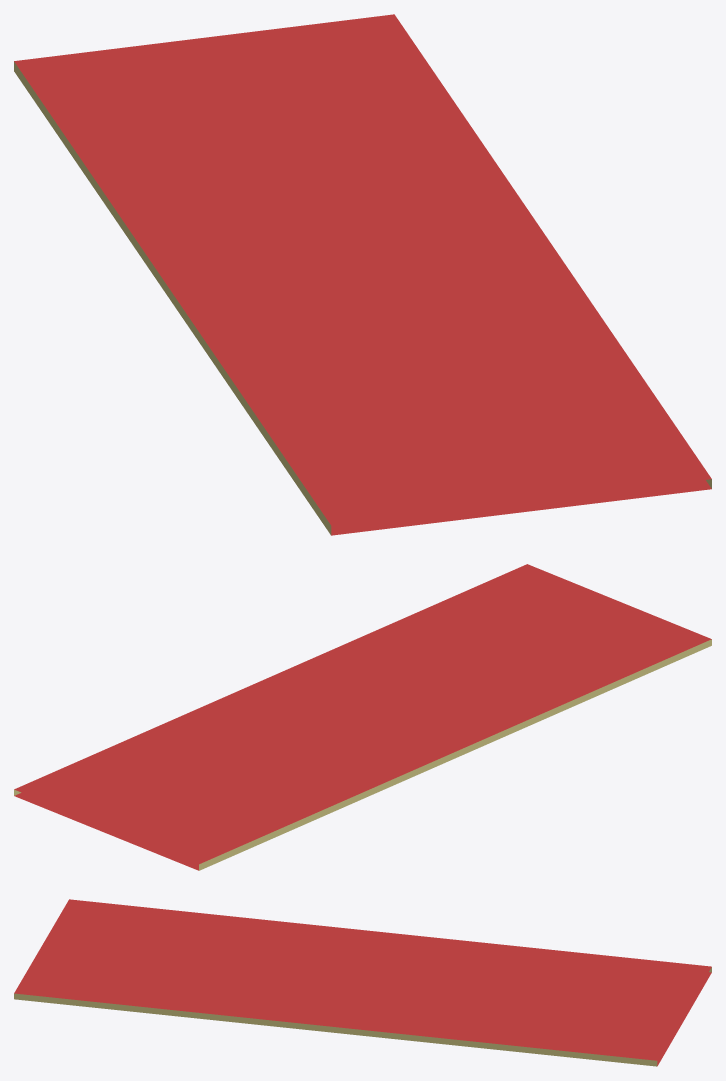
3 views of the same model, one above another, from view 1: azimuth 30°, elevation 25°; view 2: azimuth 150°, elevation 25°; view 3: azimuth 270°, elevation 25° (orthographic). The views are drawn at different scales.
Size of the model in its own units: 5.92 by 10.81 by 0.1.
